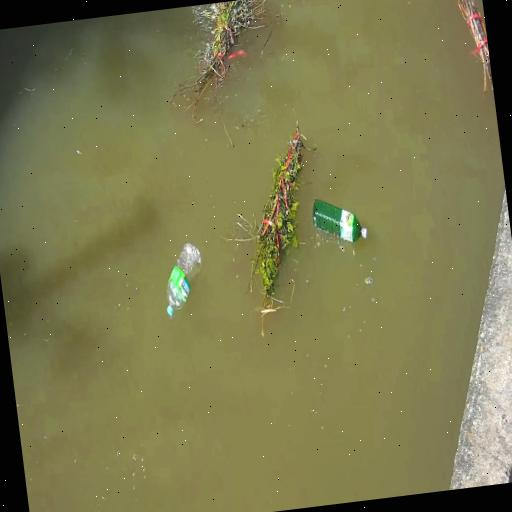plastic: (152, 234, 212, 320), (308, 190, 369, 250), (89, 505, 138, 512)
twig: (229, 131, 322, 306), (174, 0, 277, 124), (437, 0, 491, 82)
